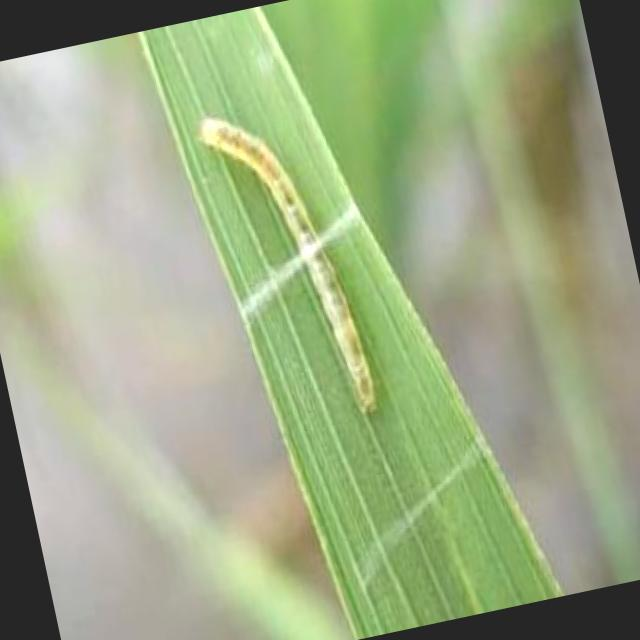leaf folder: (198, 117, 376, 413)
